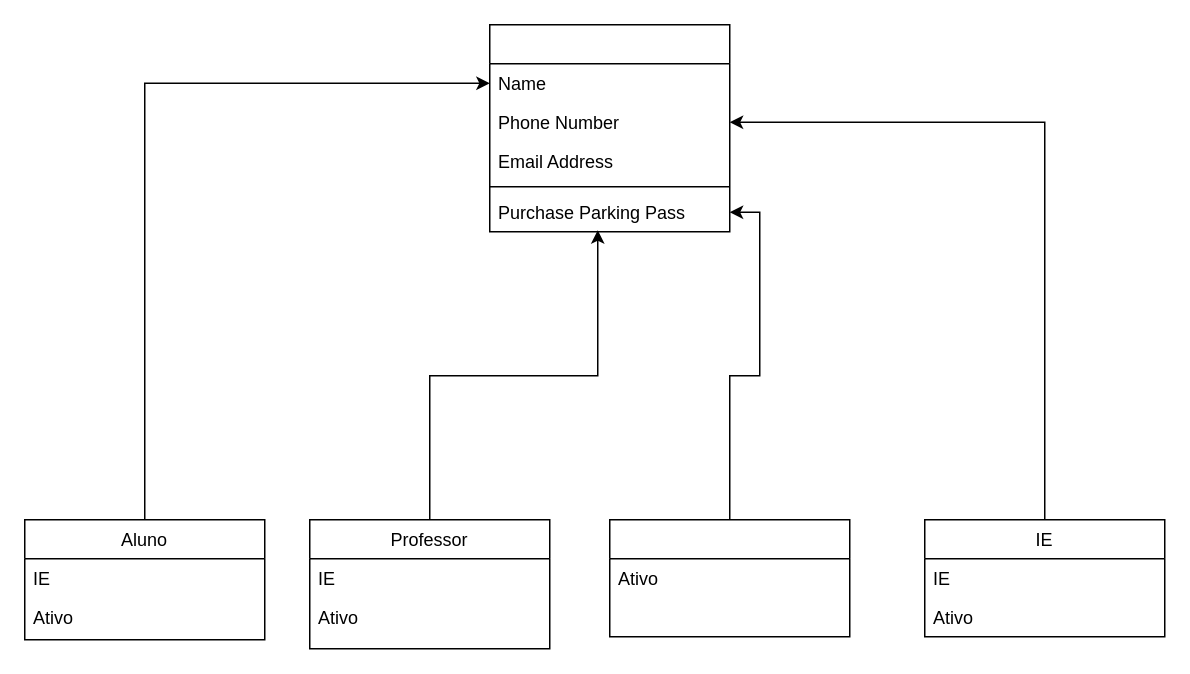
Image size: 1190x674. Some labels were removed from this diagram. Here are the shapes that lost their labels. From the top down, the box of each, then its label:
(488, 23, 730, 232): Pessoa
(608, 518, 850, 637): MJ
